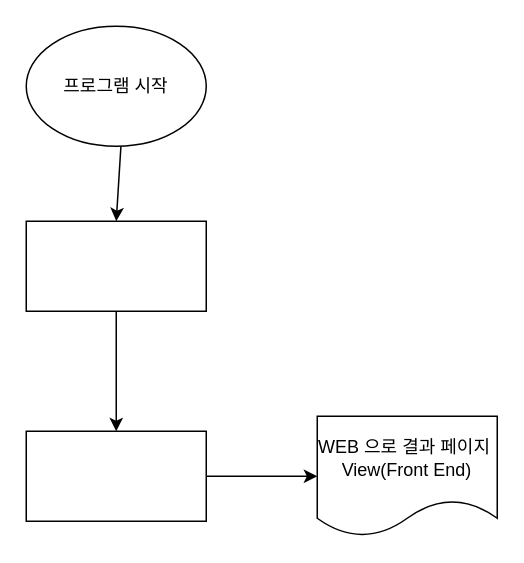
The diagram is 524 pixels wide and 563 high, and some of its shapes have lost their labels. Each missing label, with the centre of its shape:
MES 프로그램 (Web) BackEdnd 데에터 처리: (115,475)
웹서버 (?) 장비의데이터 전송 (TCP): (115,265)
